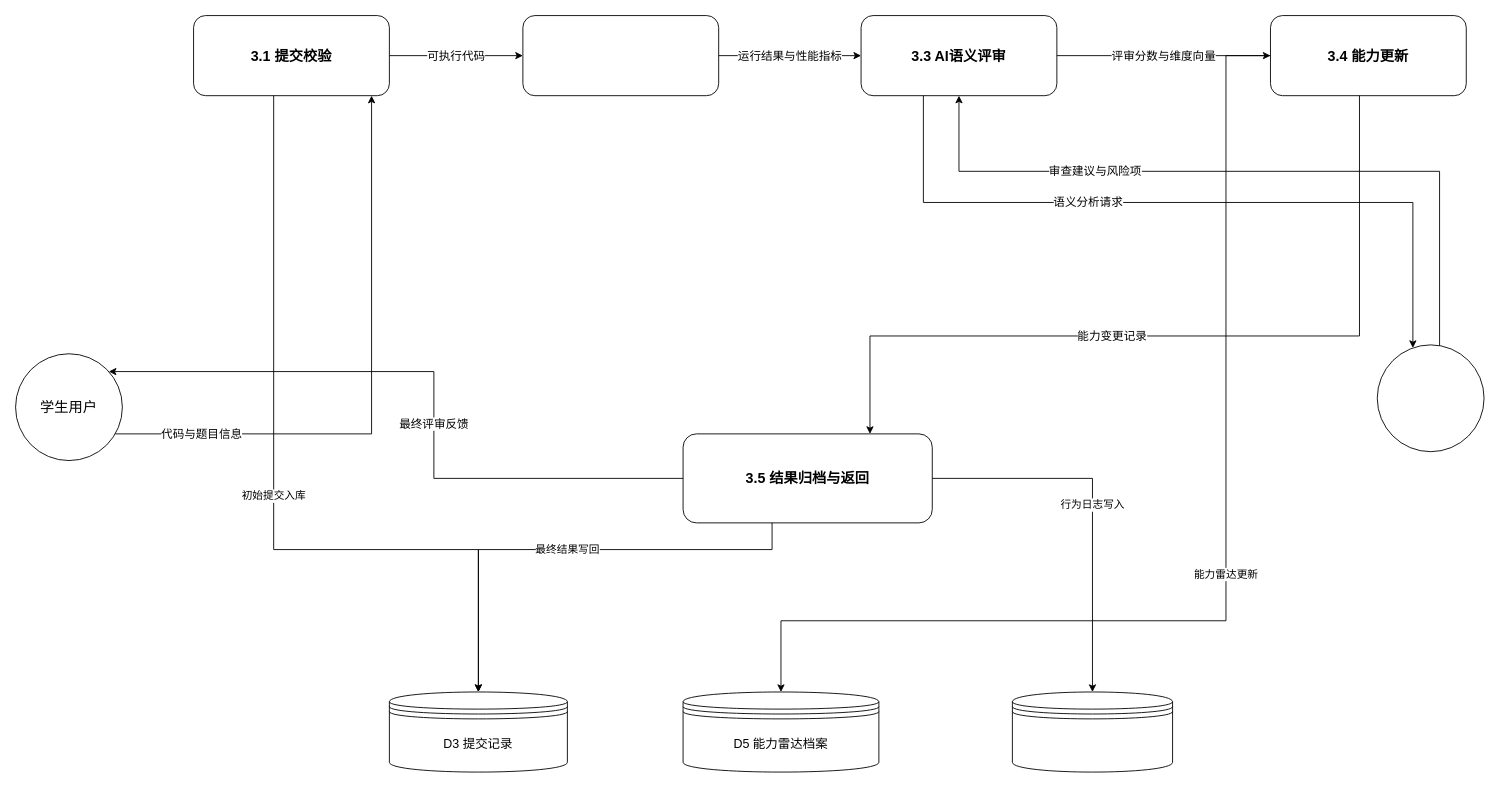
This 1500x788 diagram has some shape labels left out. Here are the shapes that lost their labels. From the top down, the box of each, then its label:
(522, 15, 719, 96): 3.2 沙箱执行
(1376, 344, 1484, 452): AI评审服务
(1011, 691, 1173, 772): D6 活动日志
